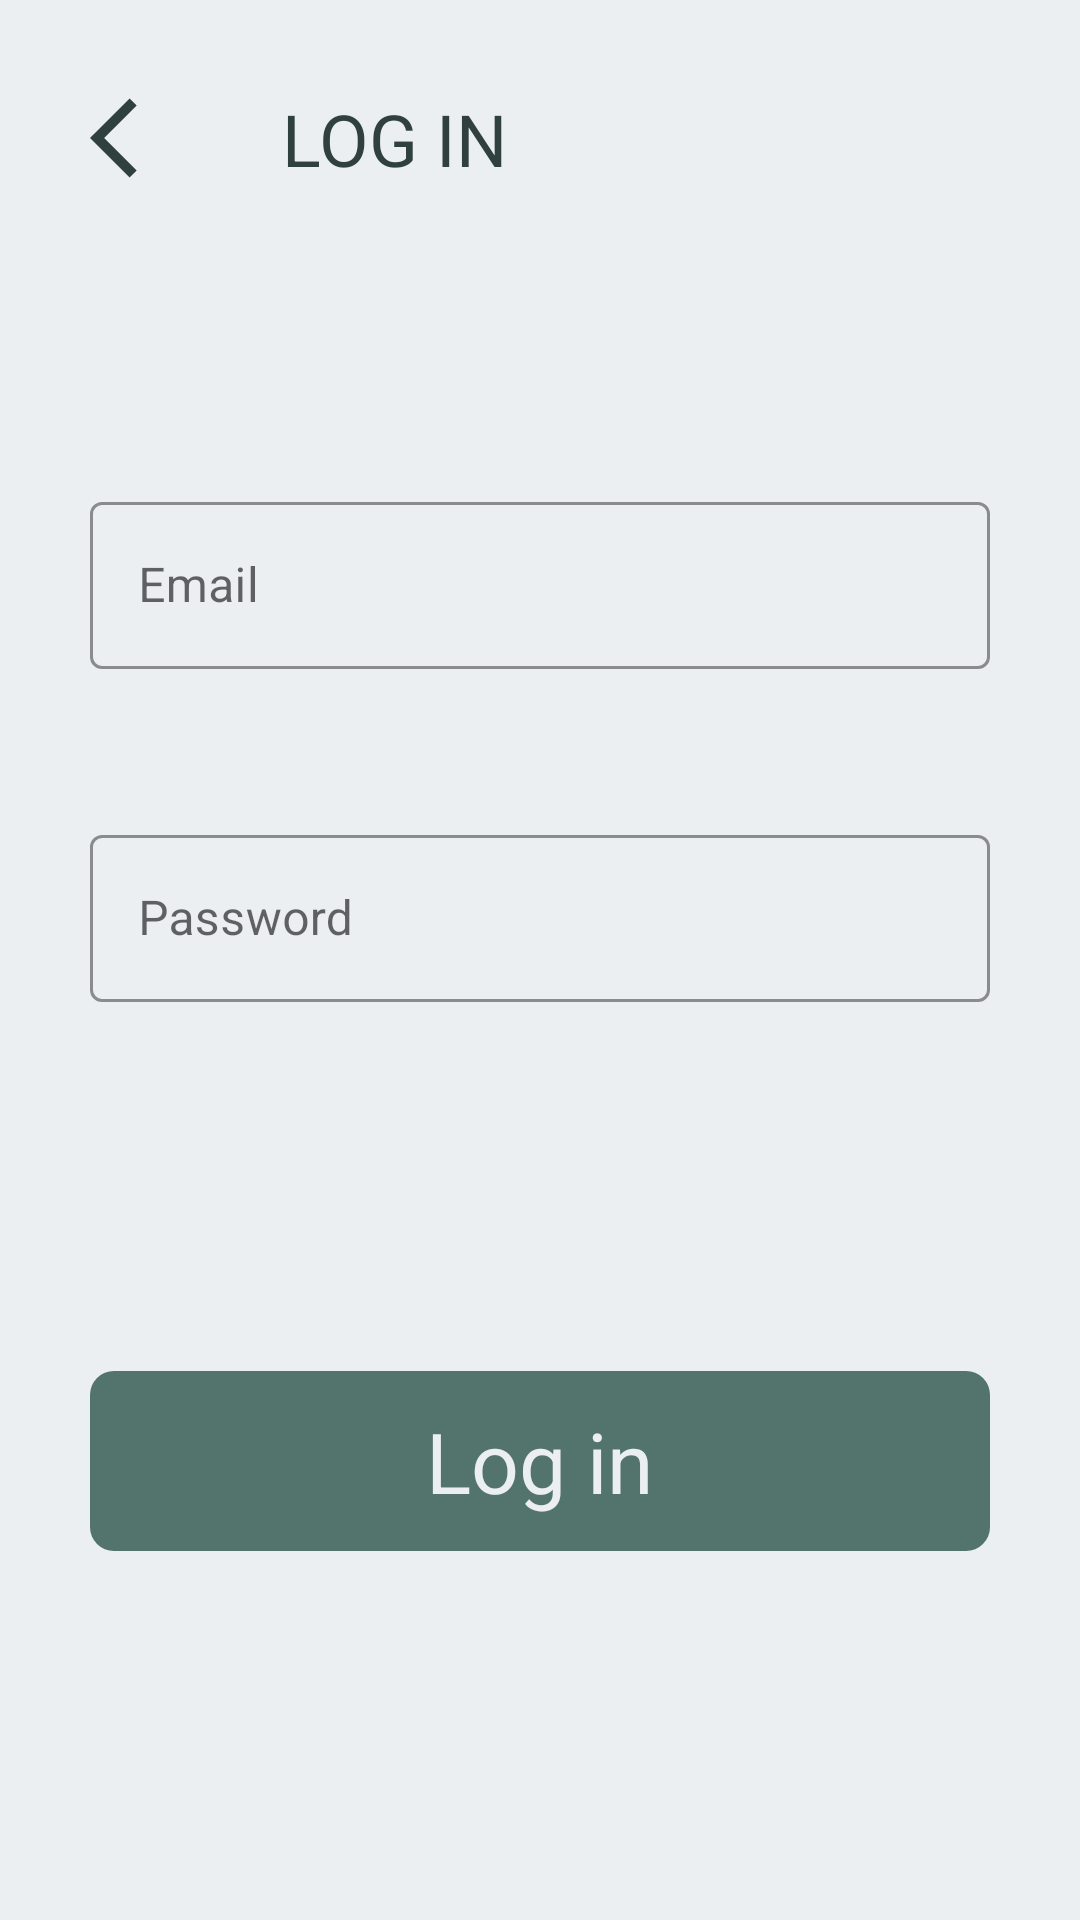

Screen size 1080x1920. Icon name, then its center in pixels as [x,y]:
back: [113,138]
